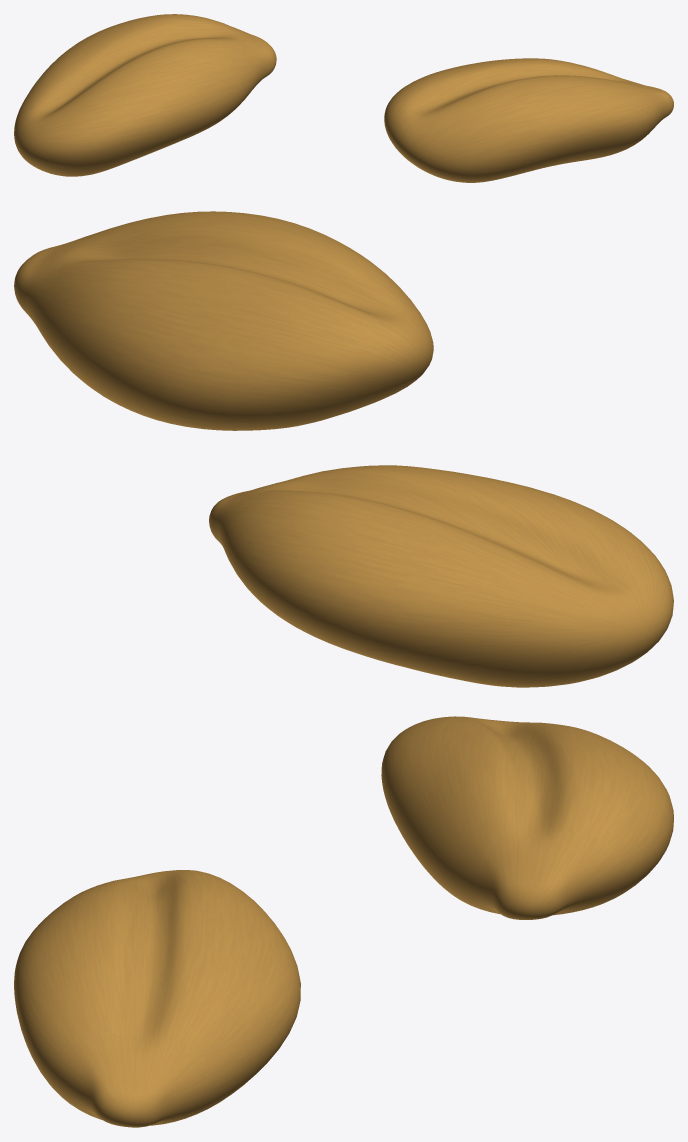
Rendered from MelonSeed.fbx.
3 views of the same model, one above another, from view 1: azimuth 30°, elevation 25°; view 2: azimuth 150°, elevation 25°; view 3: azimuth 270°, elevation 25° (orthographic). The views are drawn at different scales.
Parts seen in each view (by area): view 1: Seed_Cleaned_003, Seed_Cleaned_009; view 2: Seed_Cleaned_003, Seed_Cleaned_009; view 3: Seed_Cleaned_009, Seed_Cleaned_003.
Part boxes in pixels (x1,y1,x2,y2): Seed_Cleaned_003: [14, 14, 276, 176]; Seed_Cleaned_009: [384, 58, 673, 182]; Seed_Cleaned_003: [209, 465, 673, 687]; Seed_Cleaned_009: [14, 211, 433, 430]; Seed_Cleaned_009: [14, 870, 300, 1127]; Seed_Cleaned_003: [381, 716, 673, 919].
Bounding box in the file's own units: 13011 × 2489 × 9422.
